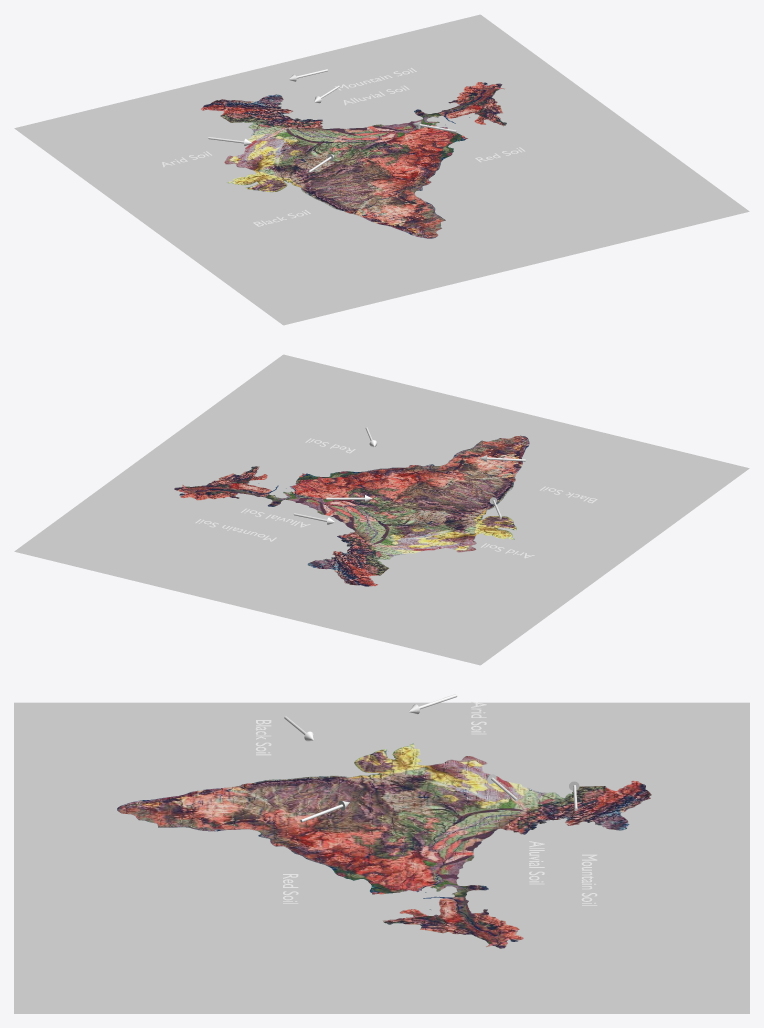
File: soilmap2.fbx
3 views of the same model, one above another, from view 1: azimuth 30°, elevation 25°; view 2: azimuth 150°, elevation 25°; view 3: azimuth 270°, elevation 25° (orthographic). The views are drawn at different scales.
Parts seen in each view (by area): view 1: Plane, indiansoilmap; view 2: Plane, indiansoilmap; view 3: Plane, indiansoilmap.
Boxes of the visible parts, <box> form: Plane: <box>14,14,749,325</box>; indiansoilmap: <box>201,82,506,238</box>; Plane: <box>14,354,749,665</box>; indiansoilmap: <box>174,435,529,586</box>; Plane: <box>14,702,749,1013</box>; indiansoilmap: <box>117,743,651,948</box>.
Bounding box in the file's own units: 446 × 49.71 × 446.
